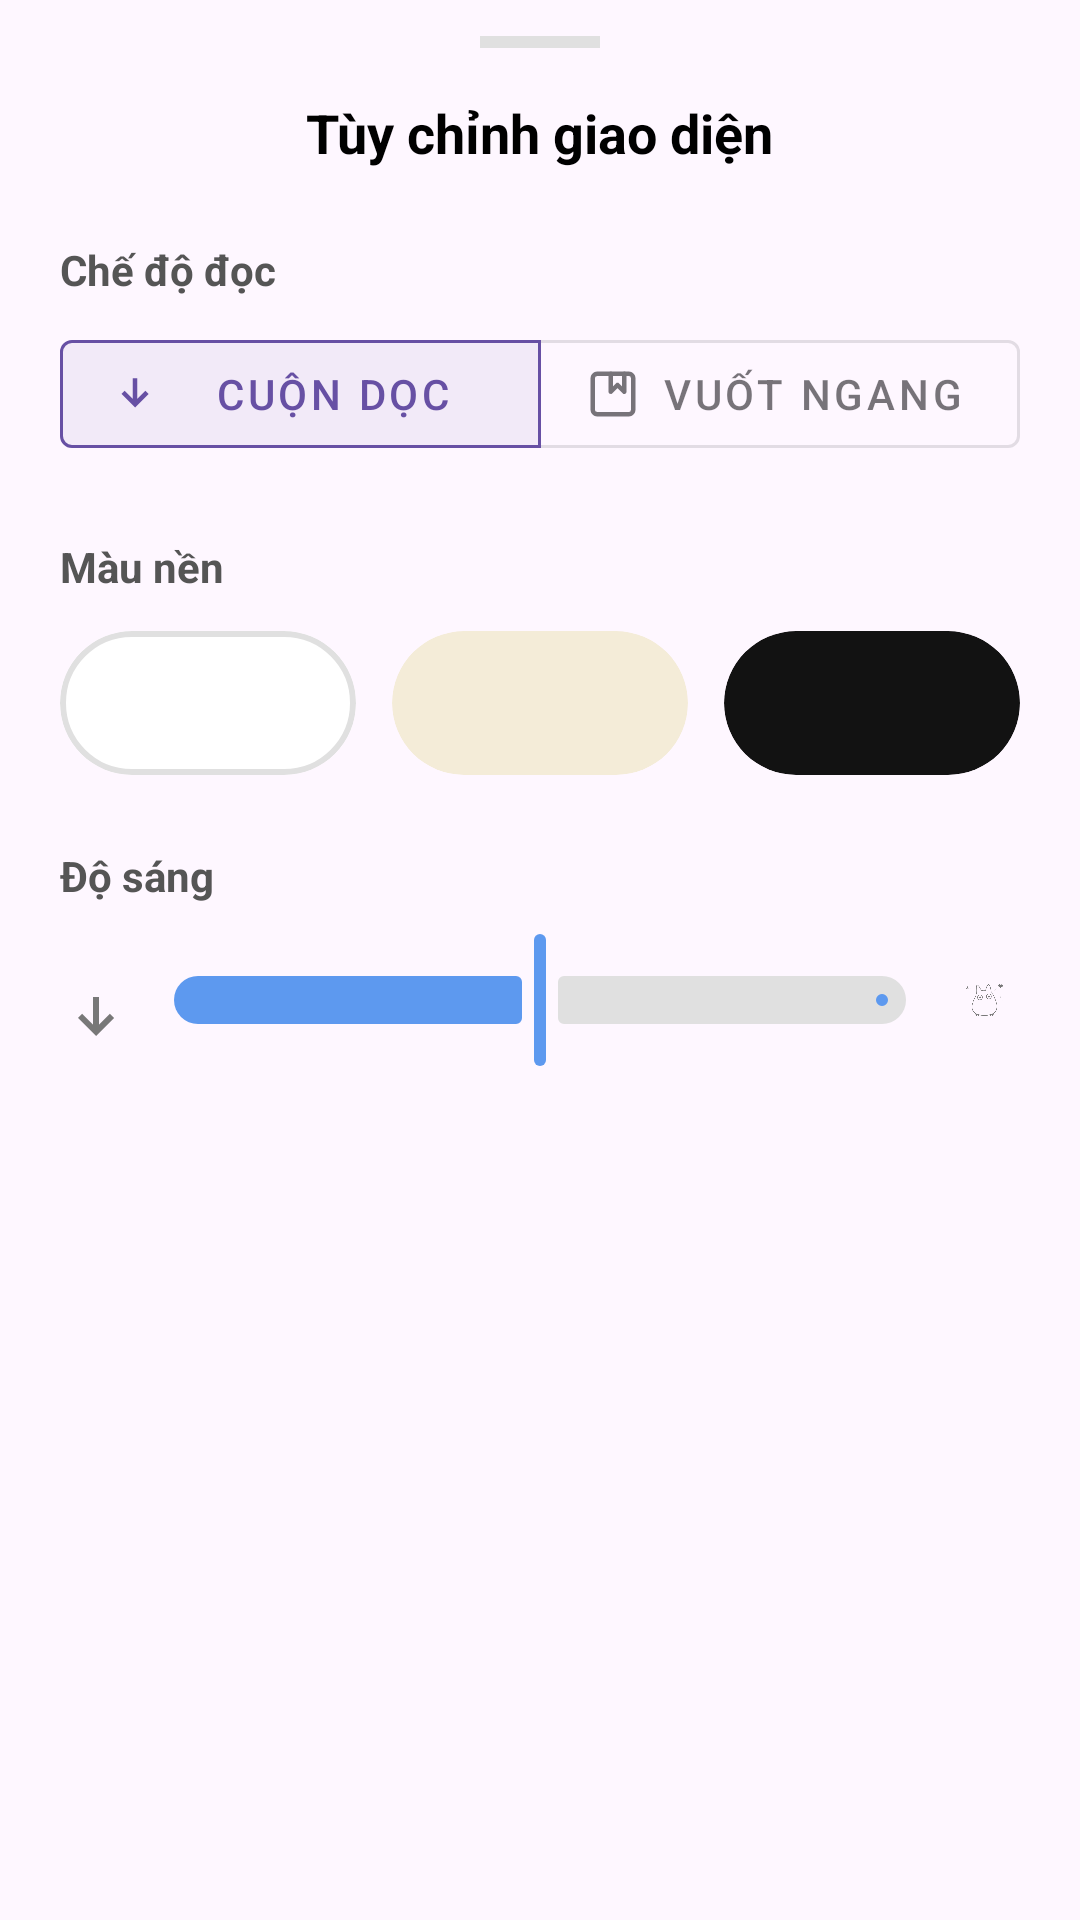

Icons on this 1080*1920 Android screen, each with the point to tap as (x,y):
down: (96,1016)
